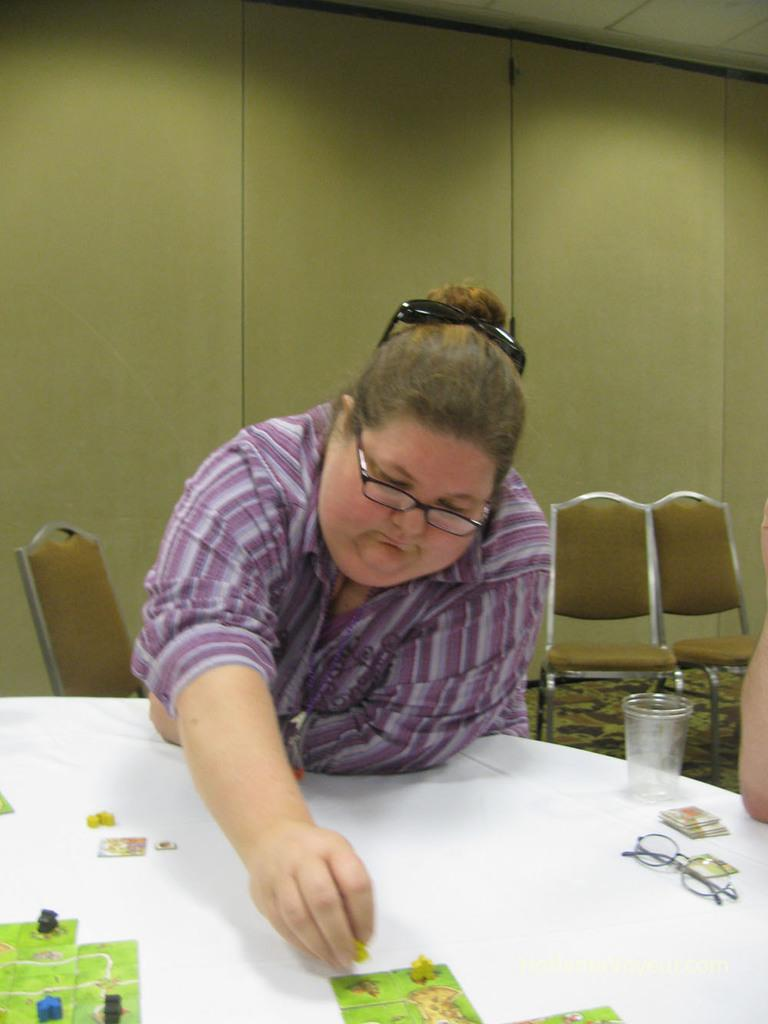Chair: (536, 490, 682, 744), (650, 489, 758, 785), (13, 521, 145, 697)
